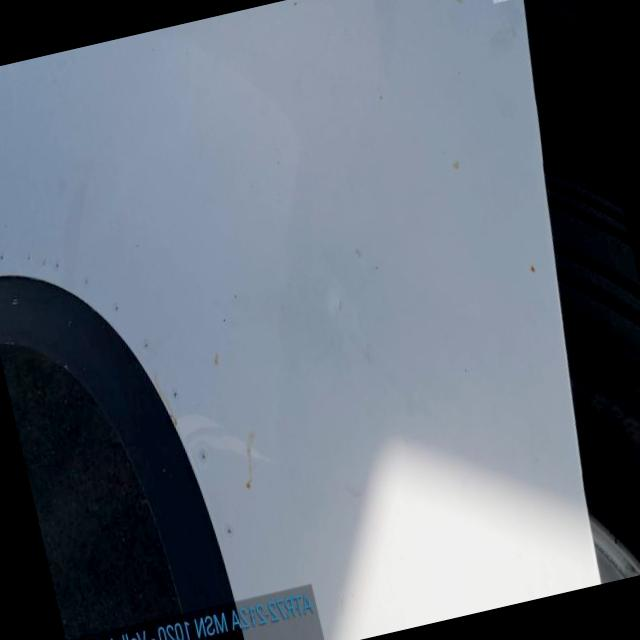dent: (312, 262, 374, 346)
